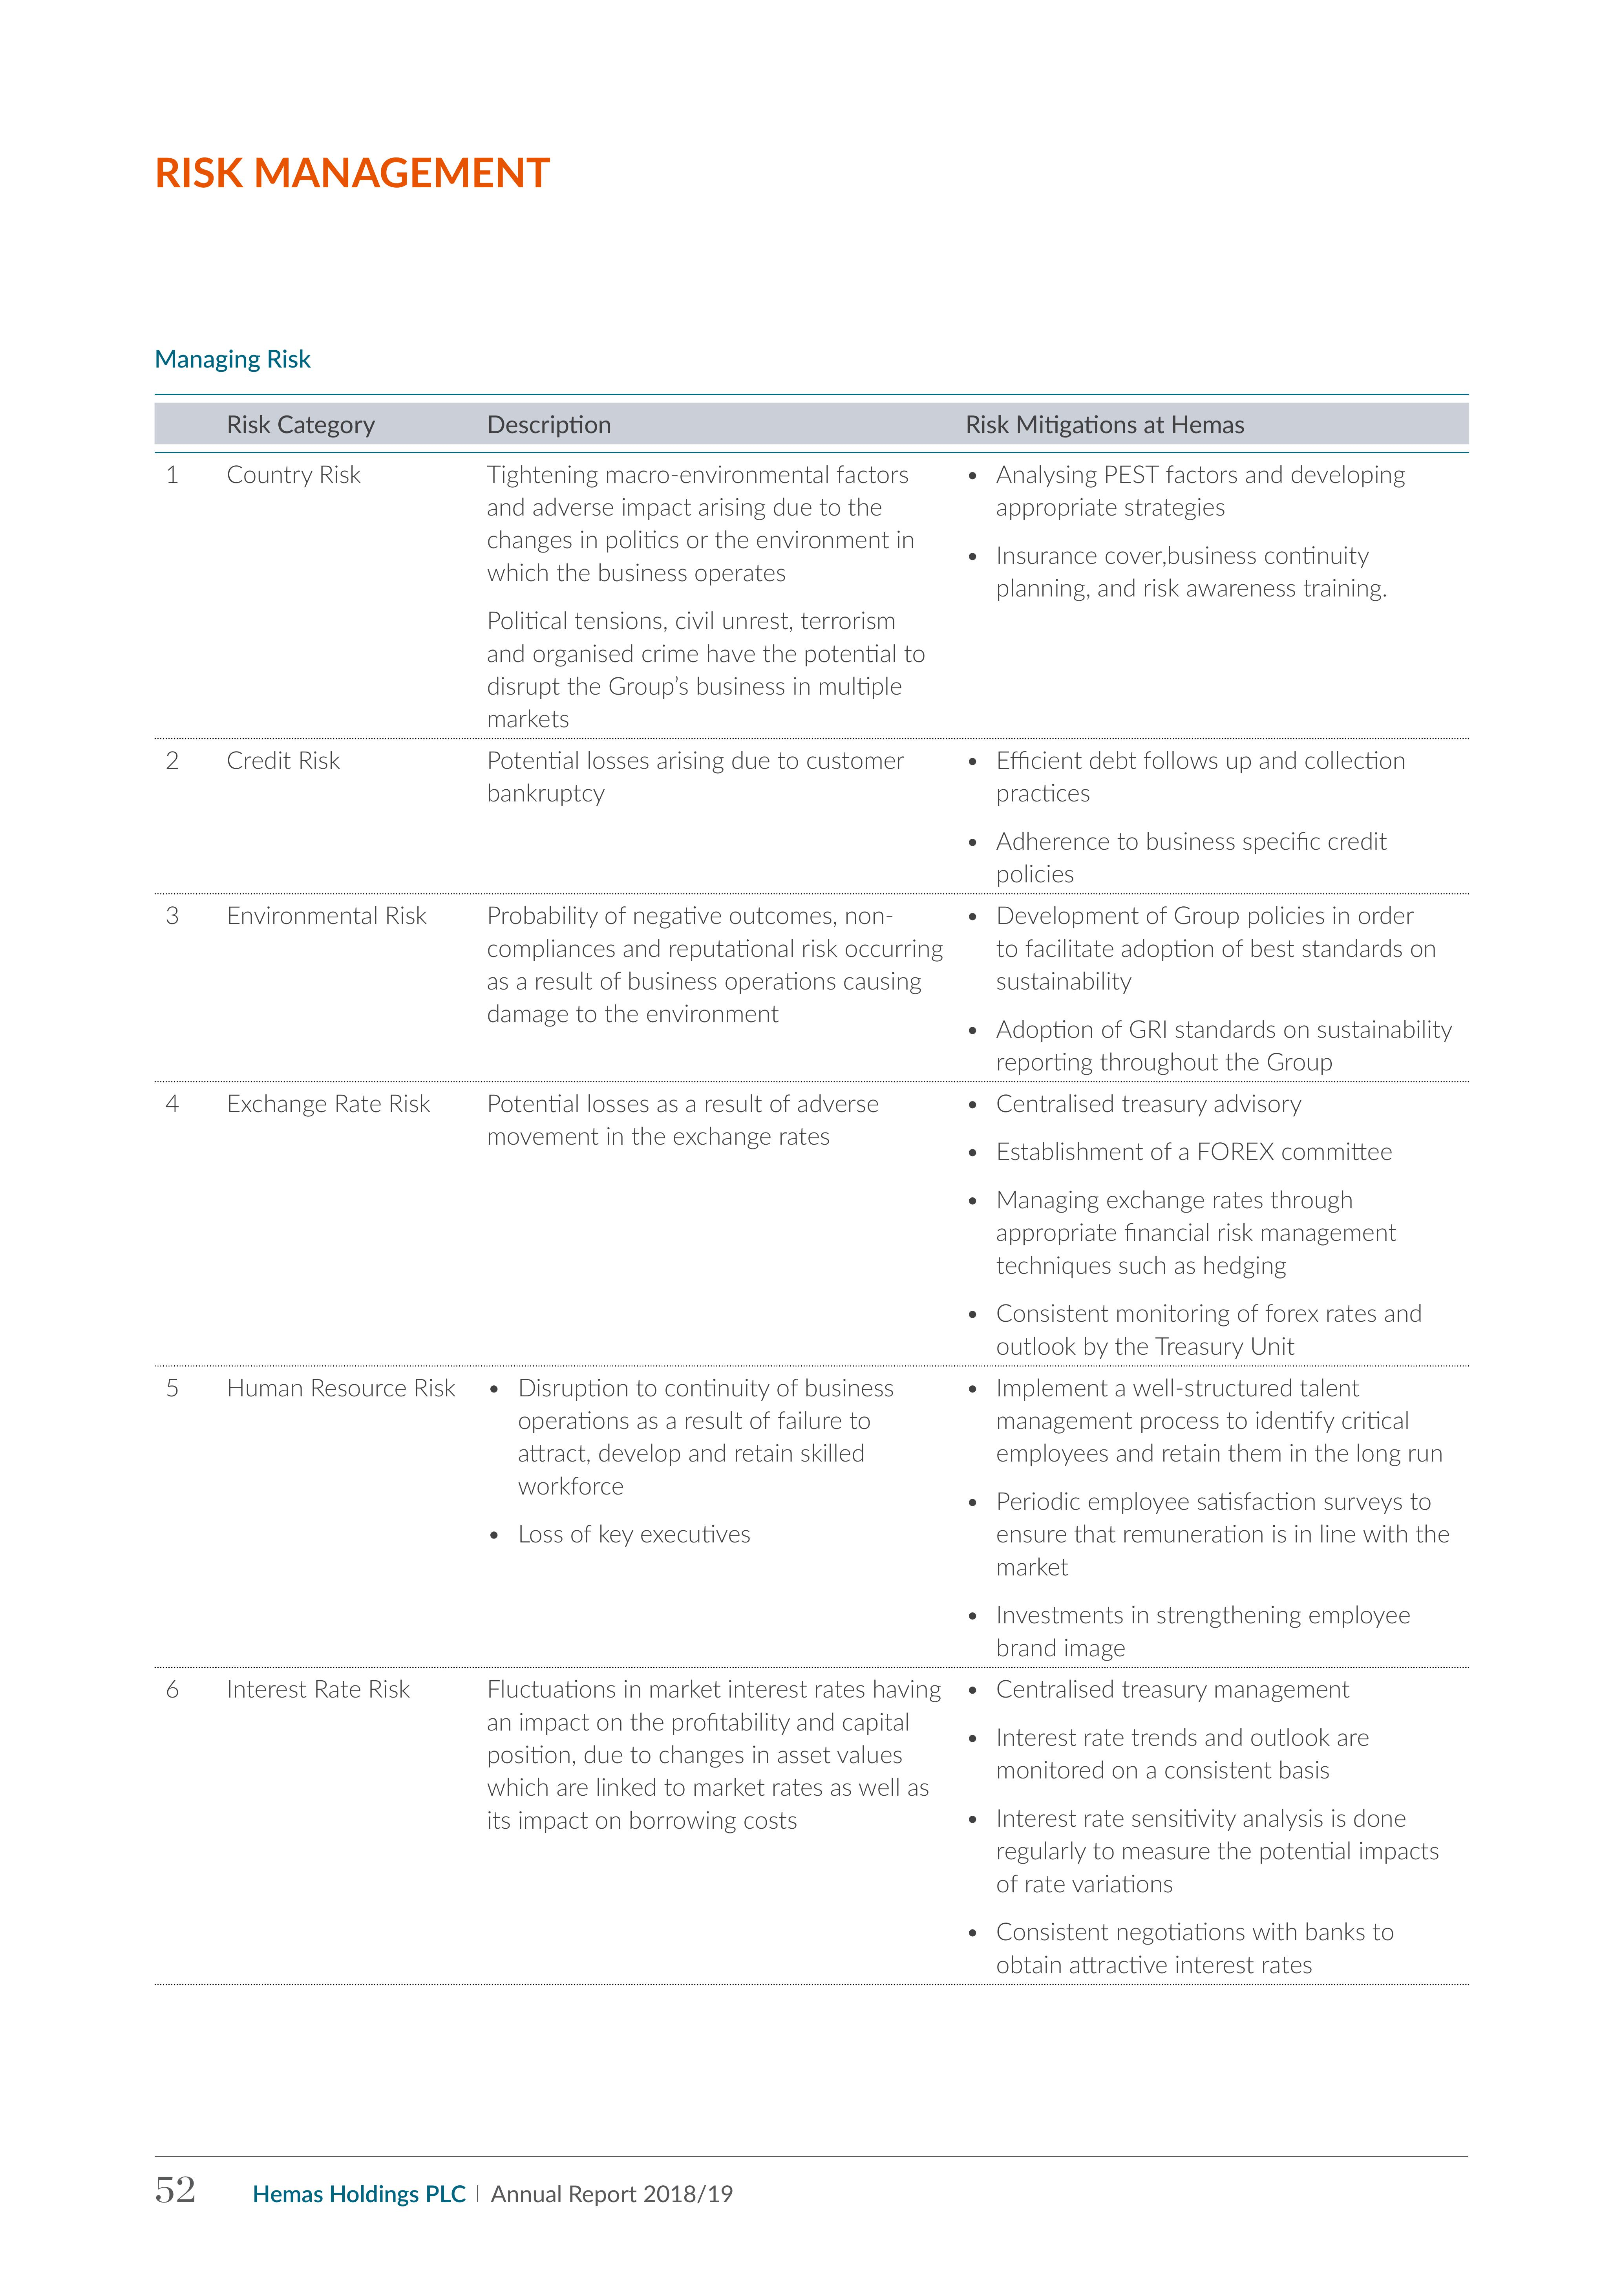table: (142, 392, 1479, 2170)
